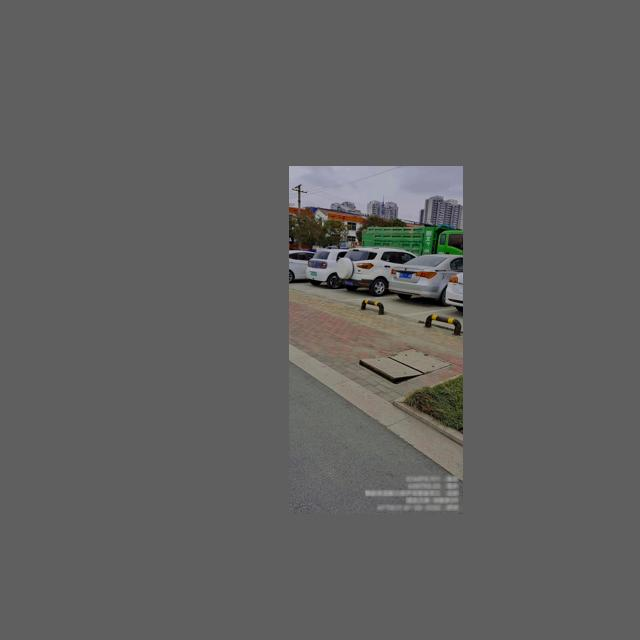uncovered: (358, 348, 453, 384)
